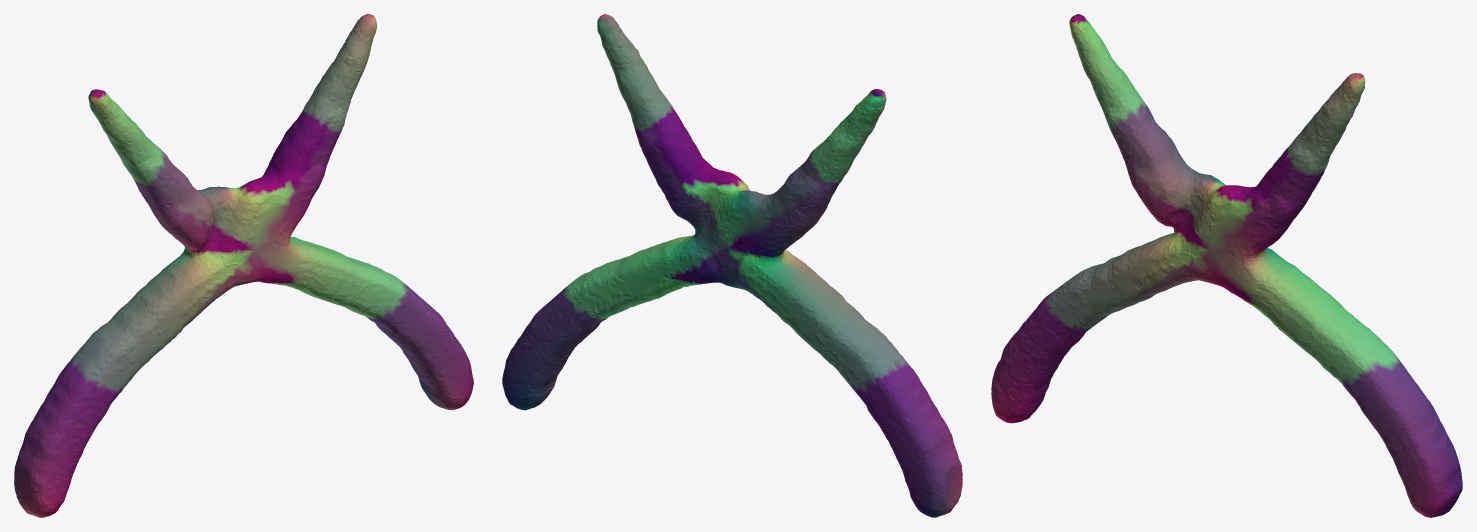
Rendered from pliers-4.off.obj.
3 views of the same model, side by side, from view 1: azimuth 30°, elevation 25°; view 2: azimuth 150°, elevation 25°; view 3: azimuth 330°, elevation 25° (orthographic). The views are drawn at different scales.
Bounding box in the file's own units: 1.46 × 1.31 × 0.1645.
